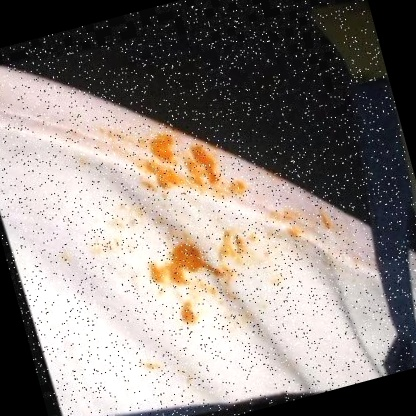kimchi: (143, 220, 227, 295), (206, 274, 264, 337), (54, 226, 130, 269), (222, 222, 271, 274), (206, 169, 258, 208), (139, 129, 180, 172), (185, 146, 221, 192), (147, 161, 187, 198), (169, 295, 205, 330), (108, 206, 145, 230), (316, 208, 335, 235), (276, 207, 300, 228), (143, 361, 166, 379), (289, 228, 306, 244), (266, 275, 281, 287)
